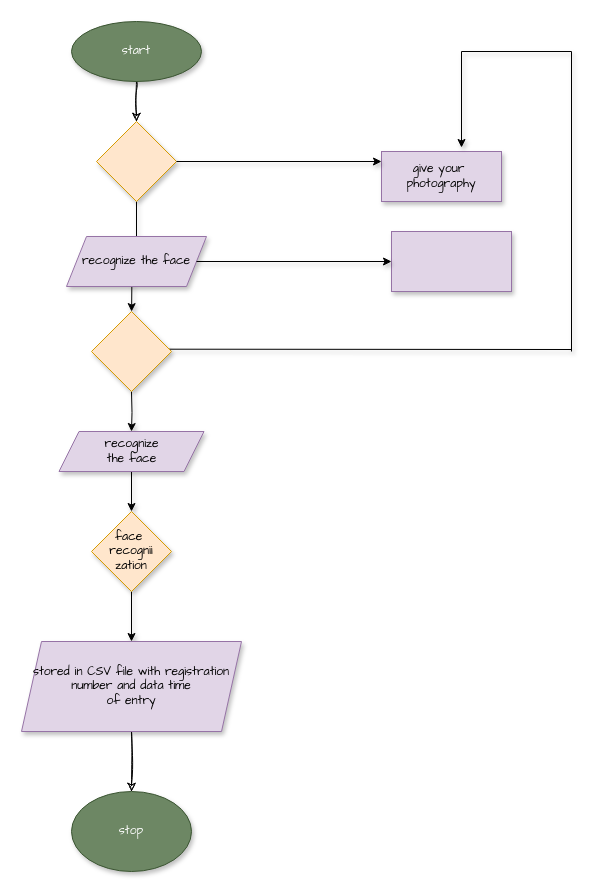
This 596x896 diagram has some shape labels left out. The shapes that lost their labels are listed below. From the top down, each one's centre as x and y in pixels, then its label:
(x=137, y=162): new user?
(x=452, y=262): store the face data in folder on your name
(x=132, y=352): face recogn ization
